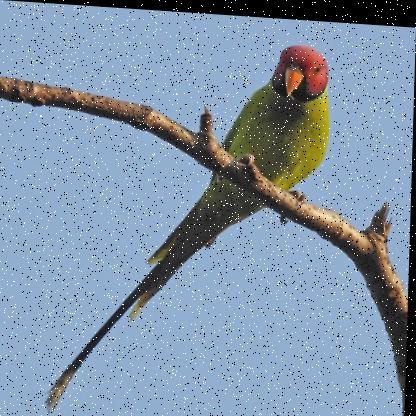Burung: (47, 28, 333, 415)
